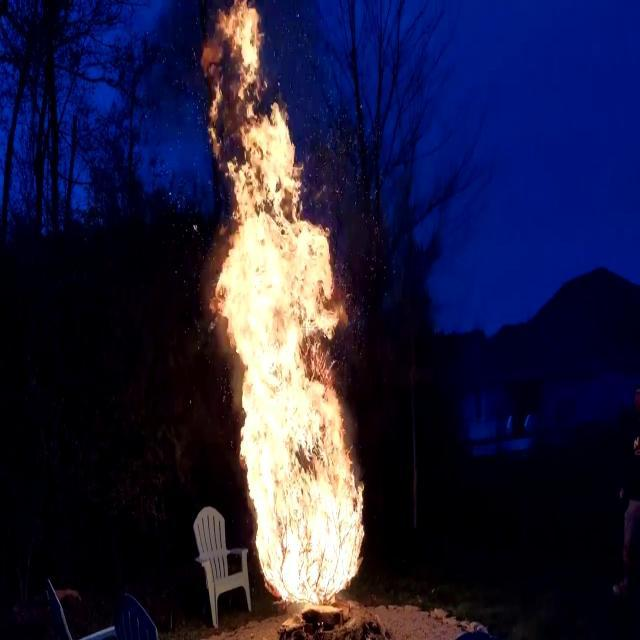Fire: (166, 1, 372, 605)
